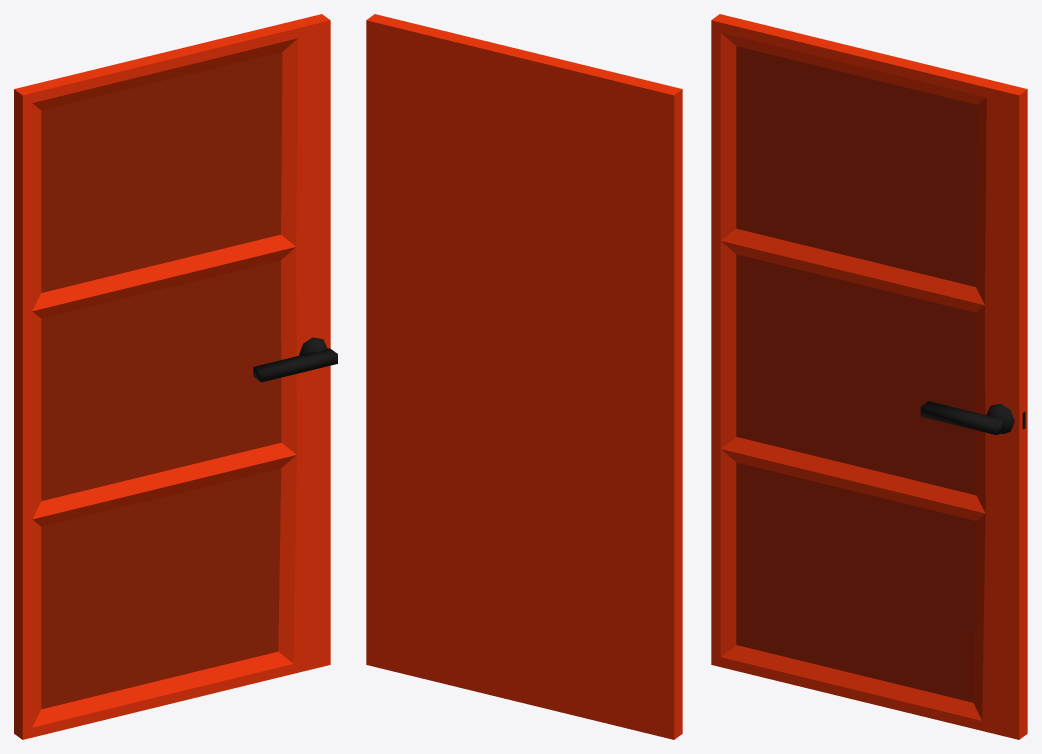
Rendered from mod_laboratory_door.FBX.
The picture shows the model from 3 angles, left to right: view 1: azimuth 30°, elevation 25°; view 2: azimuth 150°, elevation 25°; view 3: azimuth 330°, elevation 25°; orthographic projection.
Parts seen in each view (by area): view 1: Sphere001; view 2: Sphere001; view 3: Sphere001.
Boxes of the visible parts, x1,y1,x2,y2 form: Sphere001: [14, 14, 337, 739]; Sphere001: [366, 14, 682, 739]; Sphere001: [711, 14, 1027, 739].
Bounding box in the file's own units: 40.81 × 81.27 × 5.33.
